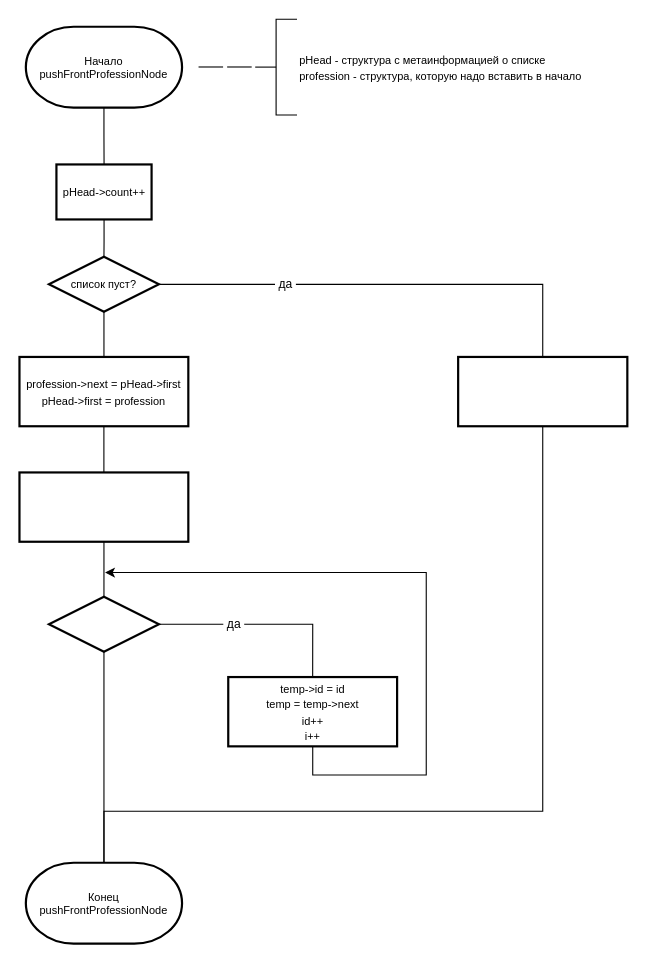
Image size: 648x964. Some labels were removed from this diagram. Each missing label, with the box of its shape:
head->first = profession head->last = profession profession->id = 1: (457, 355, 628, 427)
i < pHead->count?: (47, 595, 160, 652)
id = 1 i = 0 temp = pHead->first: (18, 471, 189, 542)
